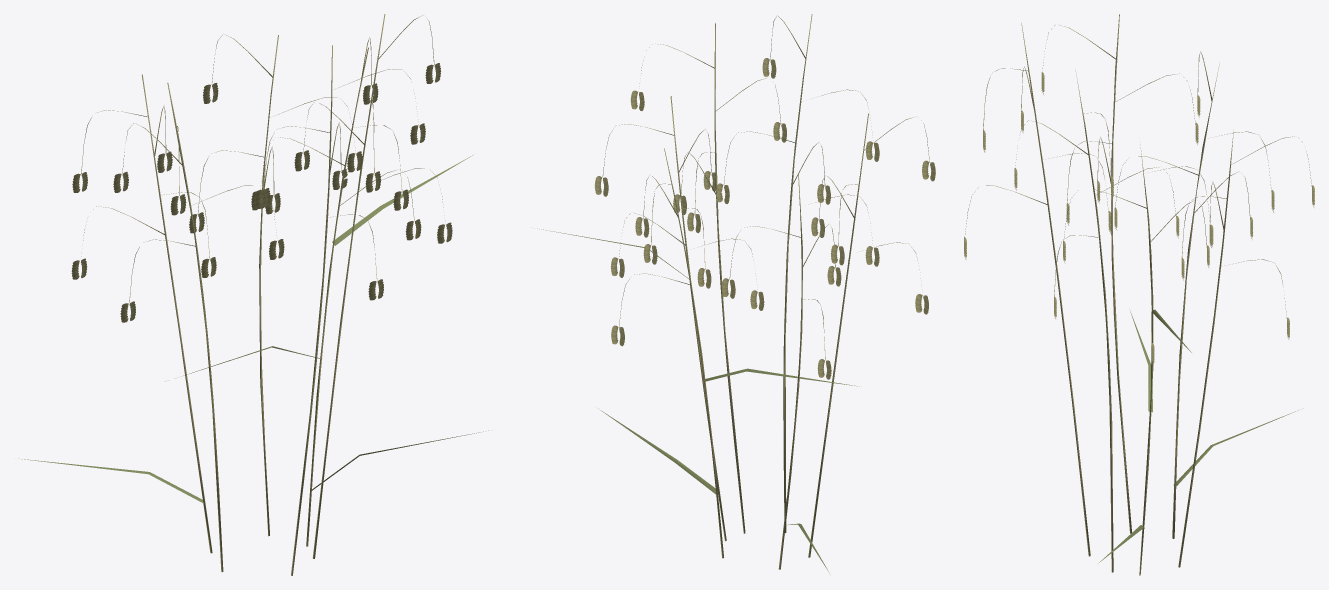
The model's file is Brize_2_Niveau1.fbx.
The picture shows the model from 3 angles, left to right: view 1: azimuth 30°, elevation 25°; view 2: azimuth 150°, elevation 25°; view 3: azimuth 270°, elevation 25°; orthographic projection. The views are drawn at different scales.
Visible parts, largest first — view 1: Brize_2_Niveau1; view 2: Brize_2_Niveau1; view 3: Brize_2_Niveau1.
Part boxes in pixels (left/top/right/bottom): Brize_2_Niveau1: left=18, top=14, right=488, bottom=575; Brize_2_Niveau1: left=537, top=14, right=935, bottom=573; Brize_2_Niveau1: left=964, top=14, right=1314, bottom=575.
Bounding box in the file's own units: 34.22 × 44.84 × 26.61.
